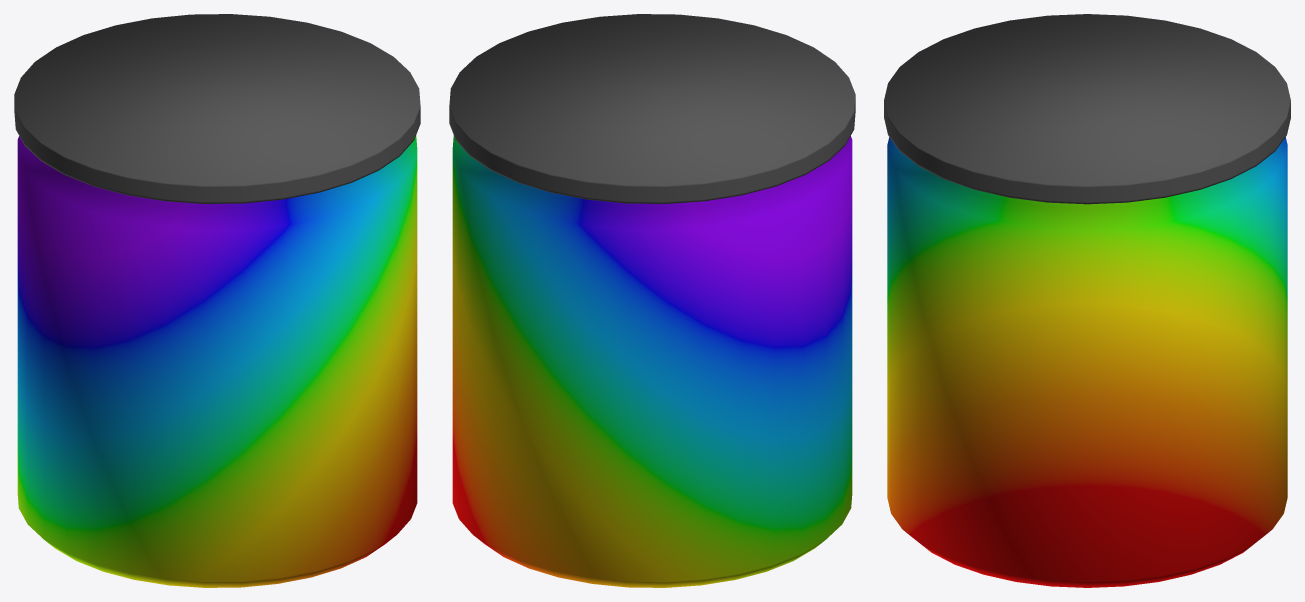
Rendered from RaInbowJar.fbx.
The picture shows the model from 3 angles, left to right: view 1: azimuth 30°, elevation 25°; view 2: azimuth 150°, elevation 25°; view 3: azimuth 270°, elevation 25°; orthographic projection.
Parts seen in each view (by area): view 1: Jar, Jar Lid; view 2: Jar, Jar Lid; view 3: Jar, Jar Lid.
Part boxes in pixels (<box>): Jar: <box>17,135,417,587</box>; Jar Lid: <box>14,14,420,203</box>; Jar: <box>452,135,852,587</box>; Jar Lid: <box>449,14,855,203</box>; Jar: <box>887,137,1287,587</box>; Jar Lid: <box>884,14,1290,204</box>.
Bounding box in the file's own units: 203 × 225 × 203.
